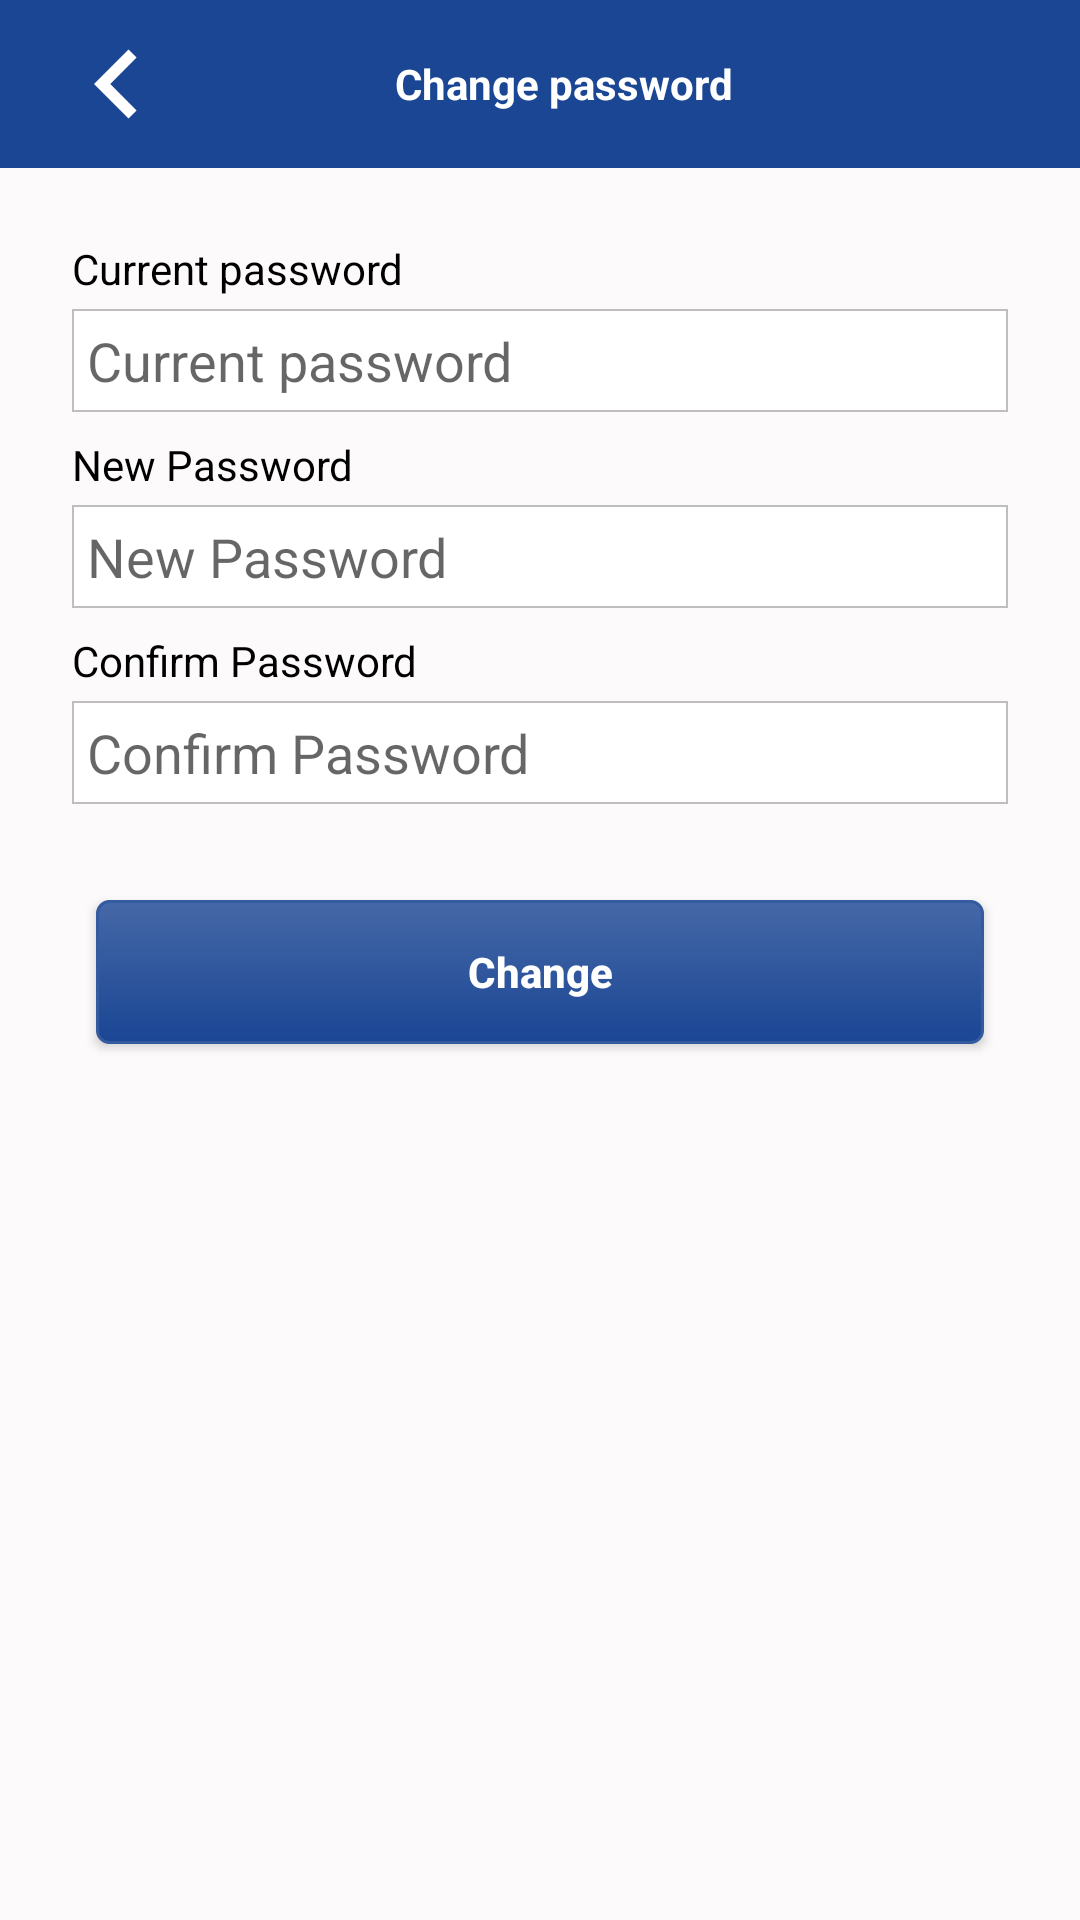

Named icons in this screenshot (1080×1920) and their centers, (x=x, y=y):
arrow left: (x=115, y=84)
